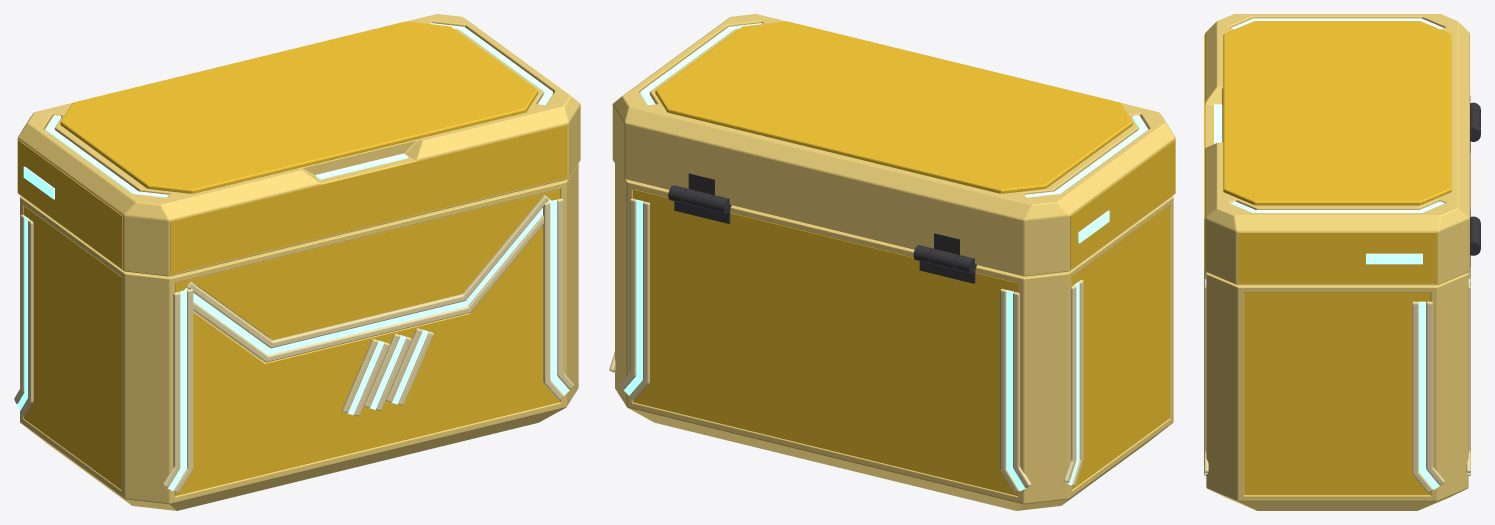
Rendered from creature.glb.
The picture shows the model from 3 angles, left to right: view 1: azimuth 30°, elevation 25°; view 2: azimuth 150°, elevation 25°; view 3: azimuth 270°, elevation 25°; orthographic projection. The views are drawn at different scales.
Visible parts, largest first — view 1: PlateFB, LidTopPanel, BodyCore, LidFrontPlate, LidBand, PlateSide, LidSidePlate, Rail_5, Rail_4, LedPath_3, Rail_16, LedPath_15 (+9 smaller); view 2: PlateFB.001, LidTopPanel, LidBand, BodyCore, PlateSide, LidSidePlate, Rail_10, Rail_20, LedPath_9, LedPath_18, Rail_11, Rail_19 (+5 smaller); view 3: LidTopPanel, PlateSide.001, BodyCore, LidBand, LidSidePlate.001, LedPath_21, Rail_22, Rail_23, LedPath_36, LedPath_39, LedPath_35, Rail_17 (+2 smaller).
Part boxes in pixels (box(x1,y1,x2,y2)): PlateFB: box(175, 189, 560, 496); LidTopPanel: box(60, 21, 537, 193); BodyCore: box(20, 163, 578, 510); LidFrontPlate: box(170, 125, 567, 274); LidBand: box(17, 14, 580, 276); PlateSide: box(23, 206, 121, 489); LidSidePlate: box(17, 139, 122, 268); Rail_5: box(186, 195, 548, 348); Rail_4: box(193, 215, 543, 362); LedPath_3: box(184, 199, 550, 354); Rail_16: box(543, 201, 563, 400); LedPath_15: box(549, 199, 569, 395); PlateFB.001: box(633, 189, 1018, 496); LidTopPanel: box(655, 21, 1132, 193); LidBand: box(612, 14, 1175, 276); BodyCore: box(615, 164, 1173, 510); PlateSide: box(1071, 205, 1169, 489); LidSidePlate: box(1070, 139, 1175, 268); Rail_10: box(1000, 288, 1019, 493); Rail_20: box(629, 201, 649, 400); LedPath_9: box(1006, 290, 1025, 491); LedPath_18: box(624, 199, 643, 395); Rail_11: box(1013, 292, 1031, 487); Rail_19: box(619, 198, 636, 389); LidTopPanel: box(1223, 21, 1451, 205); PlateSide.001: box(1244, 292, 1430, 495); BodyCore: box(1206, 272, 1468, 510); LidBand: box(1205, 14, 1469, 284); LidSidePlate.001: box(1238, 232, 1436, 283); LedPath_21: box(1418, 301, 1439, 489); Rail_22: box(1412, 301, 1433, 493); Rail_23: box(1426, 301, 1444, 485); LedPath_36: box(1230, 201, 1444, 212); LedPath_39: box(1366, 253, 1422, 264); LedPath_35: box(1231, 18, 1443, 29); Rail_17: box(1204, 284, 1208, 473).
Bounding box in the file's own units: 1.78 × 1.17 × 0.971.
